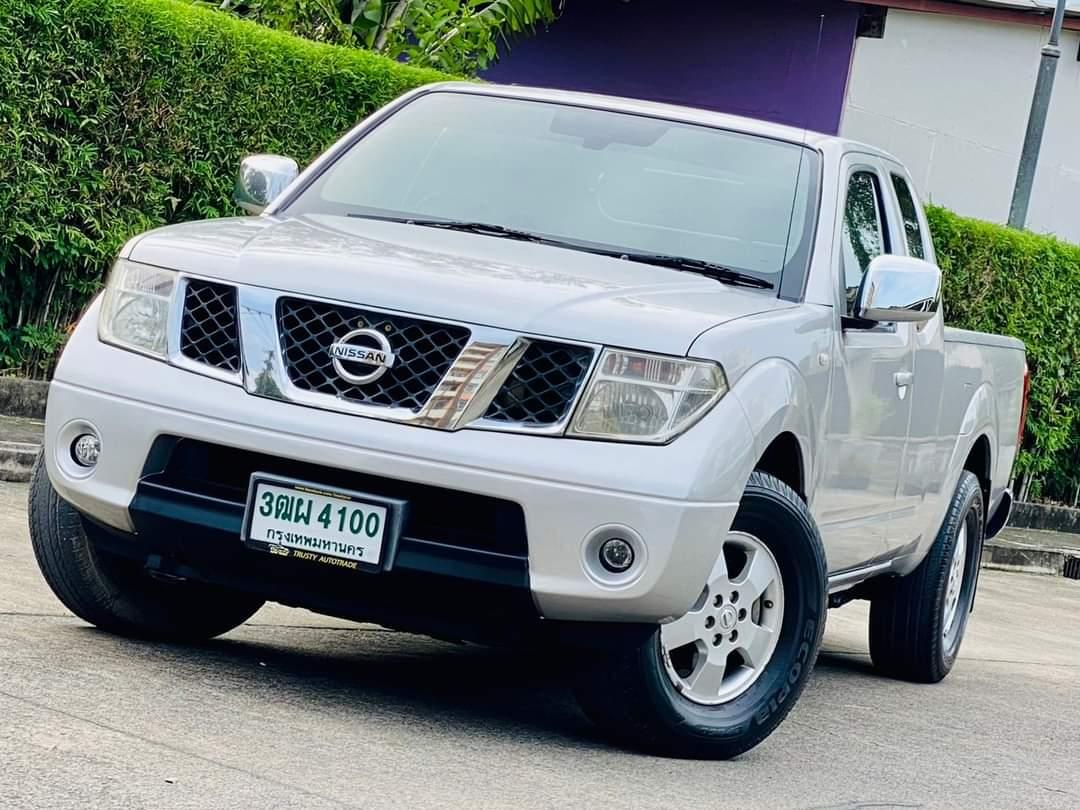license-plate: (238, 467, 404, 579)
